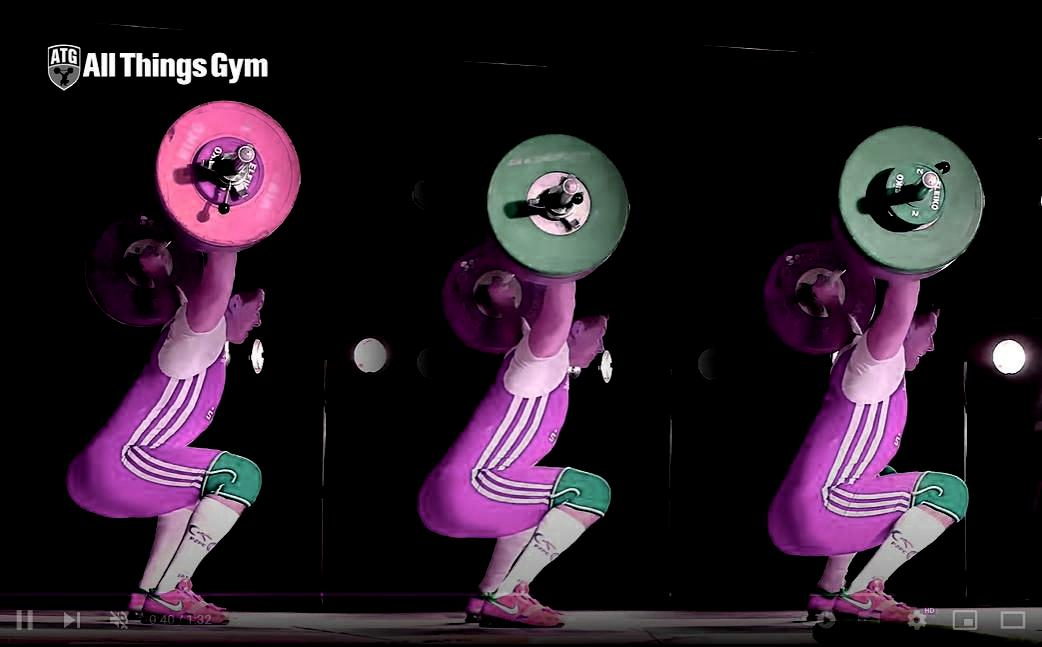Barbell: (229, 134, 259, 168), (914, 168, 942, 194), (558, 175, 582, 198)
